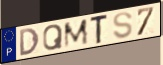7: (136, 5, 156, 37)
D: (18, 27, 41, 58)
M: (63, 17, 90, 50)
Q: (42, 24, 64, 52)
S: (112, 11, 134, 40)
T: (90, 13, 109, 45)
